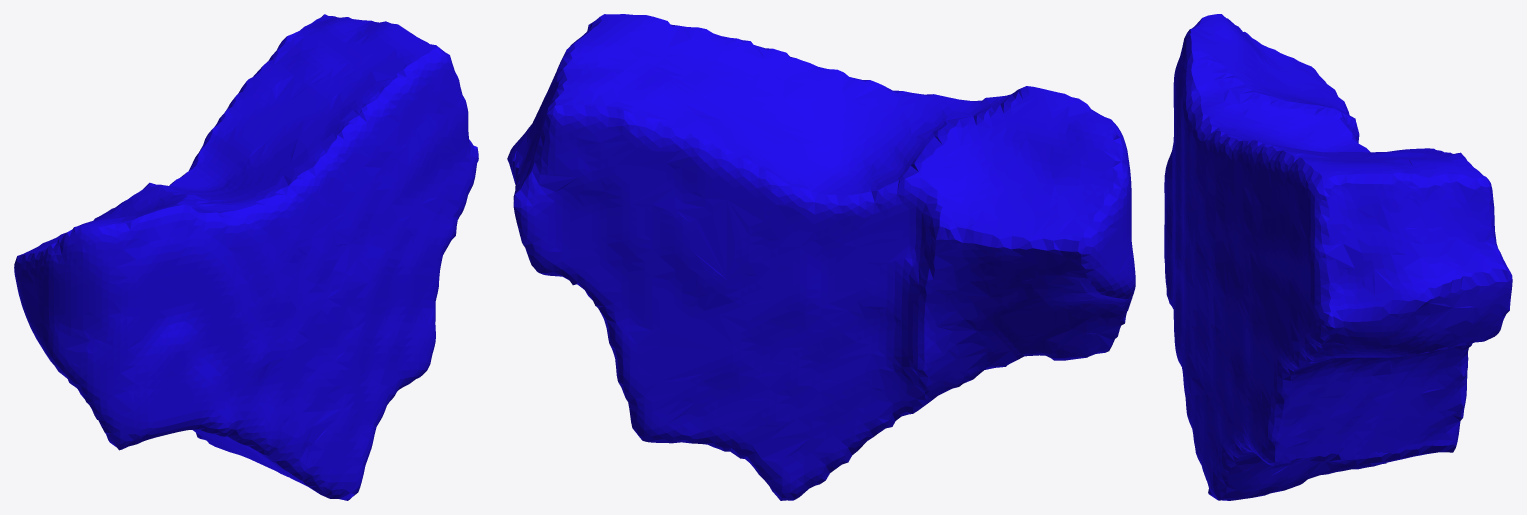
The model's file is Model_106_RH__Parietal_area_PE_(PE).obj.
3 renders of one model, left to right at view 1: azimuth 30°, elevation 25°; view 2: azimuth 150°, elevation 25°; view 3: azimuth 270°, elevation 25°, orthographic. The views are drawn at different scales.
Size of the model in its own units: 6.17 by 4.72 by 3.77.
